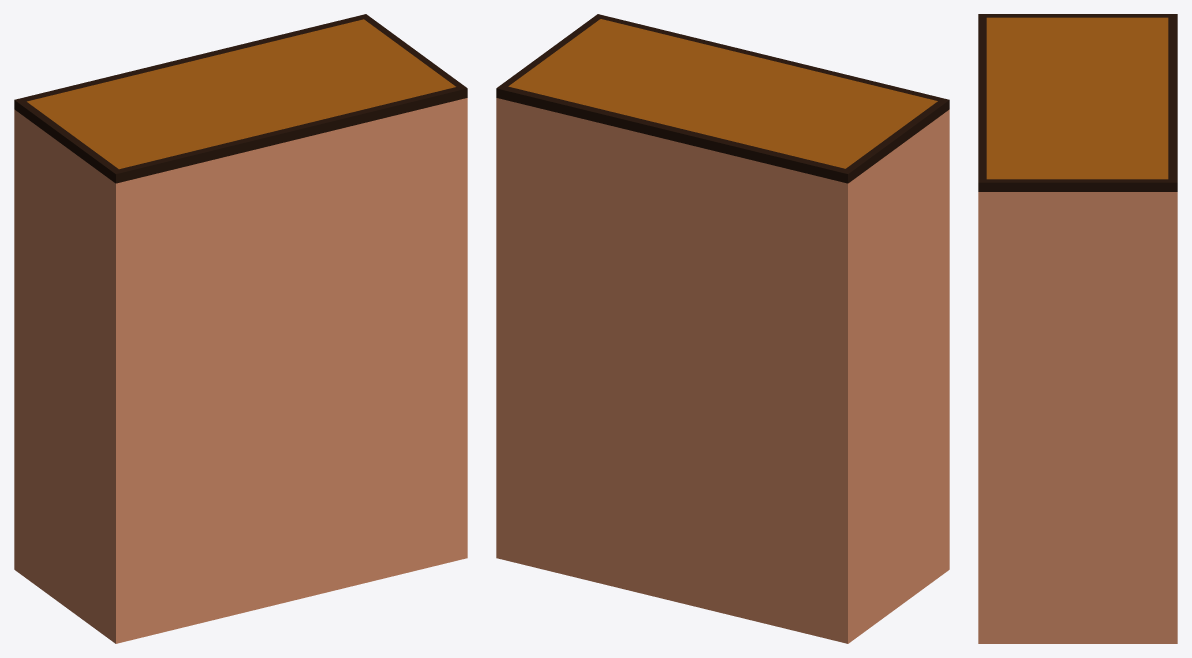
Rendered from SingleWallSegment.glb.
The picture shows the model from 3 angles, left to right: view 1: azimuth 30°, elevation 25°; view 2: azimuth 150°, elevation 25°; view 3: azimuth 270°, elevation 25°; orthographic projection.
Visible parts, largest first — view 1: Cube.019; view 2: Cube.019; view 3: Cube.019.
Boxes of the visible parts, x1=… form: Cube.019: x1=14, y1=14, x2=467, y2=643; Cube.019: x1=496, y1=14, x2=949, y2=643; Cube.019: x1=978, y1=14, x2=1177, y2=643.
Bounding box in the file's own units: 4 × 5.1 × 2.
